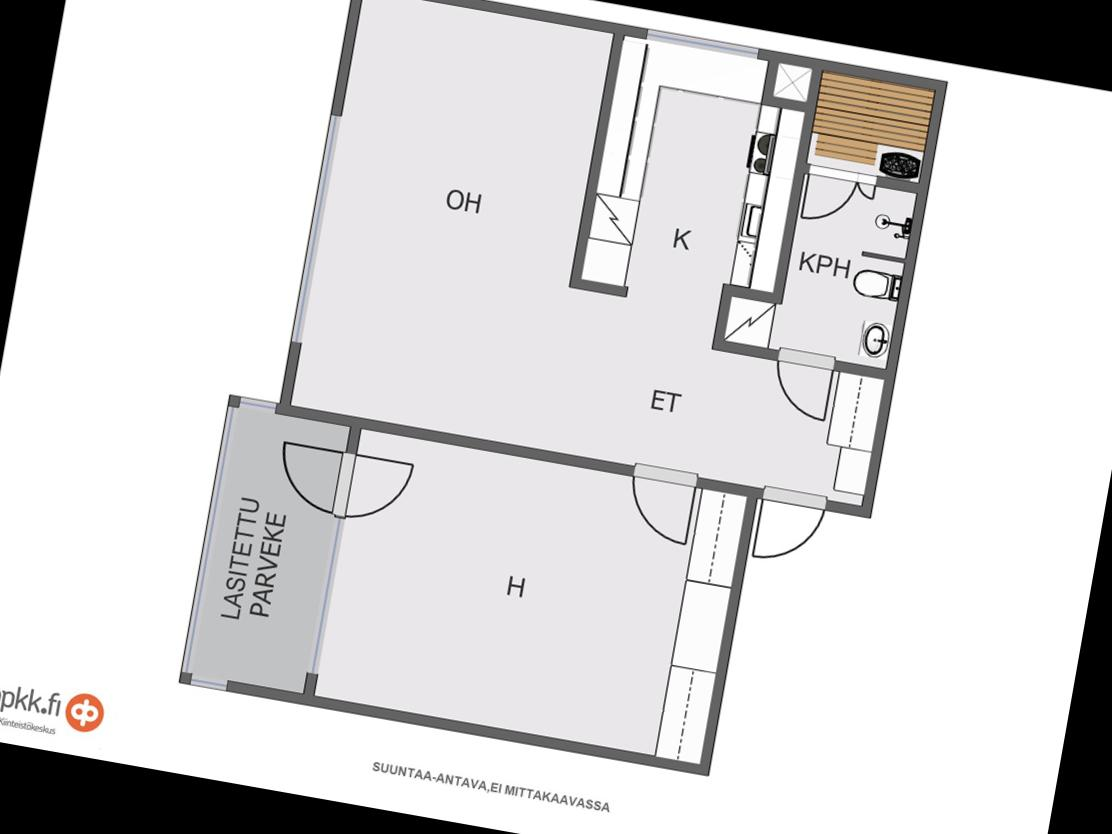door: (614, 455, 708, 554), (742, 481, 832, 572), (265, 434, 355, 520), (336, 450, 417, 528), (762, 343, 838, 426)
window: (170, 398, 236, 692), (279, 104, 347, 356), (302, 514, 350, 686), (634, 23, 770, 66), (170, 666, 234, 696), (232, 392, 281, 420)
